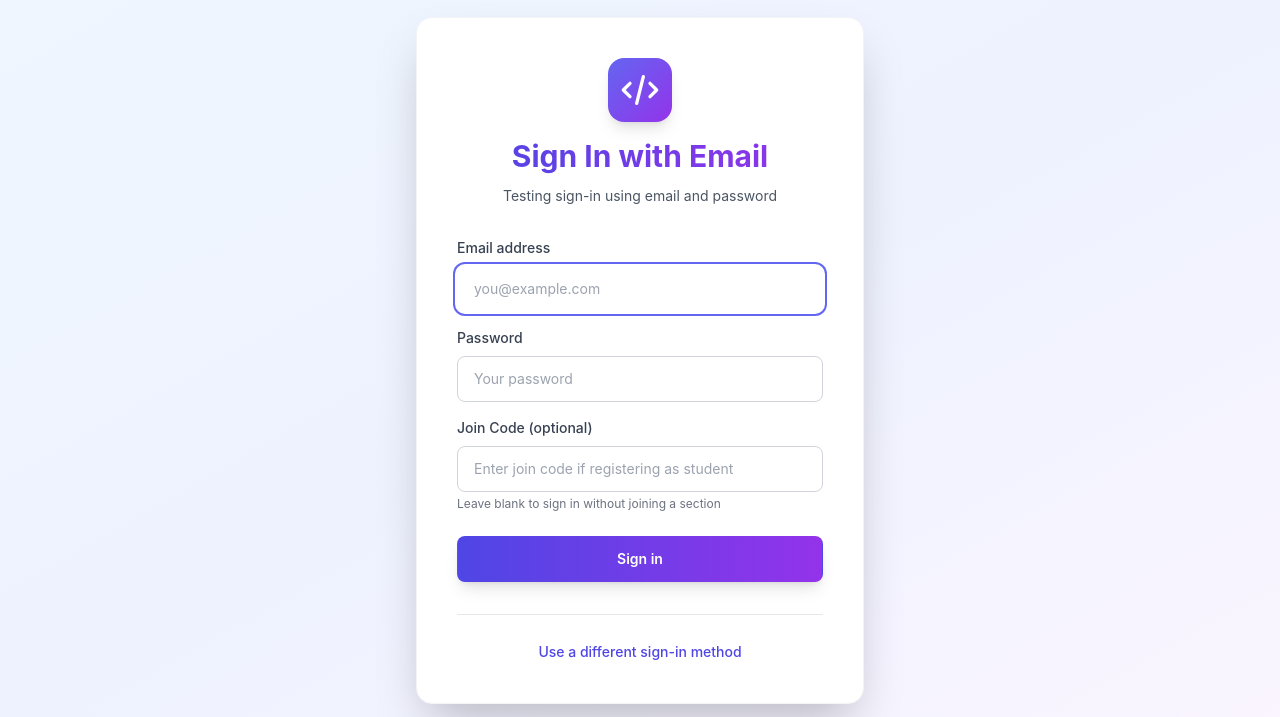
Test case: EmailSignInPage › Invite token flow › shows error message when invite token is expired
Type "test@example.com" into the field labelled "Email address".
click(640, 288); type("test@example.com")  # box [457, 266, 823, 312]
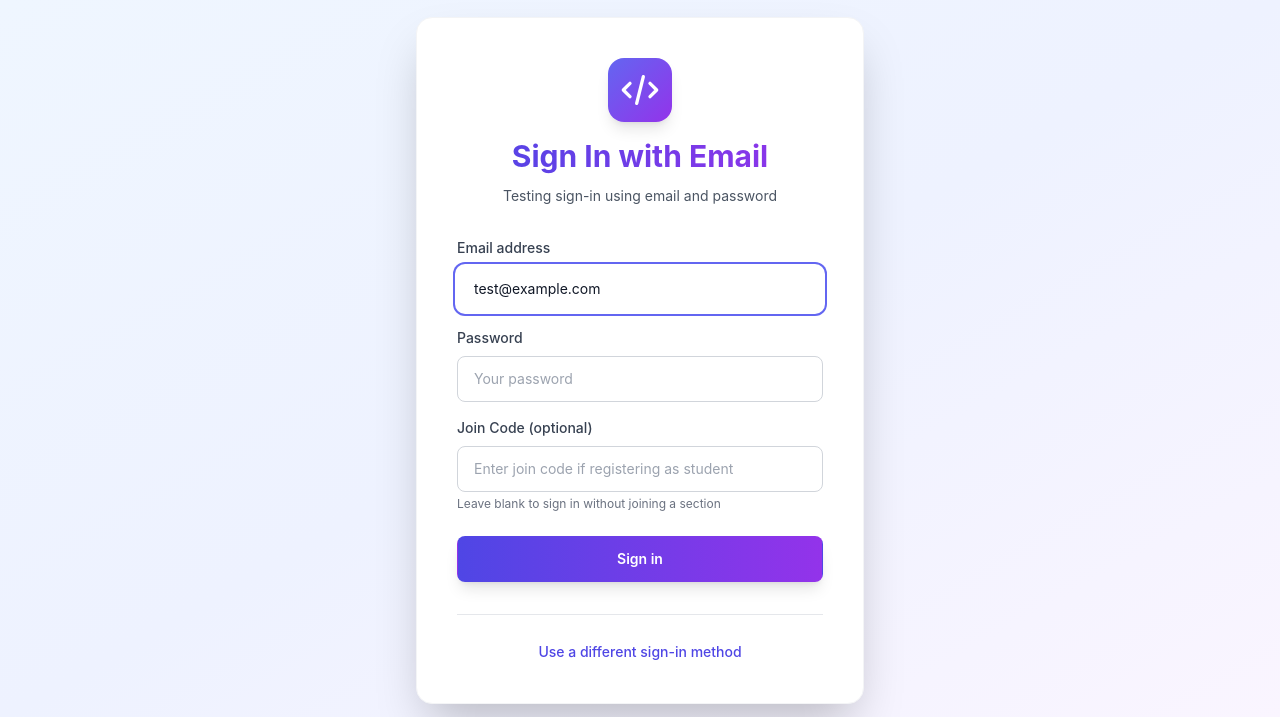
Type "password123" into the password field labelled "Password".
click(640, 378); type("password123")  # box [457, 356, 823, 402]
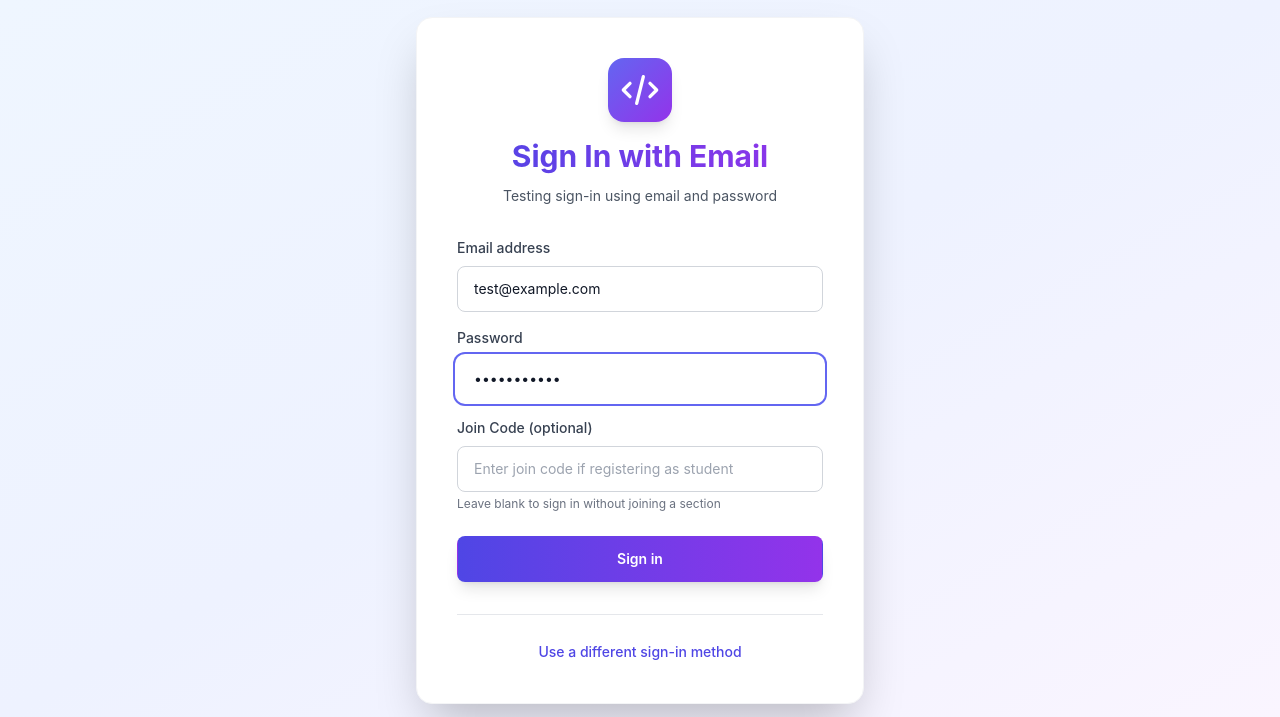
Click the button "Sign in".
click(640, 558)  # box [457, 536, 823, 582]
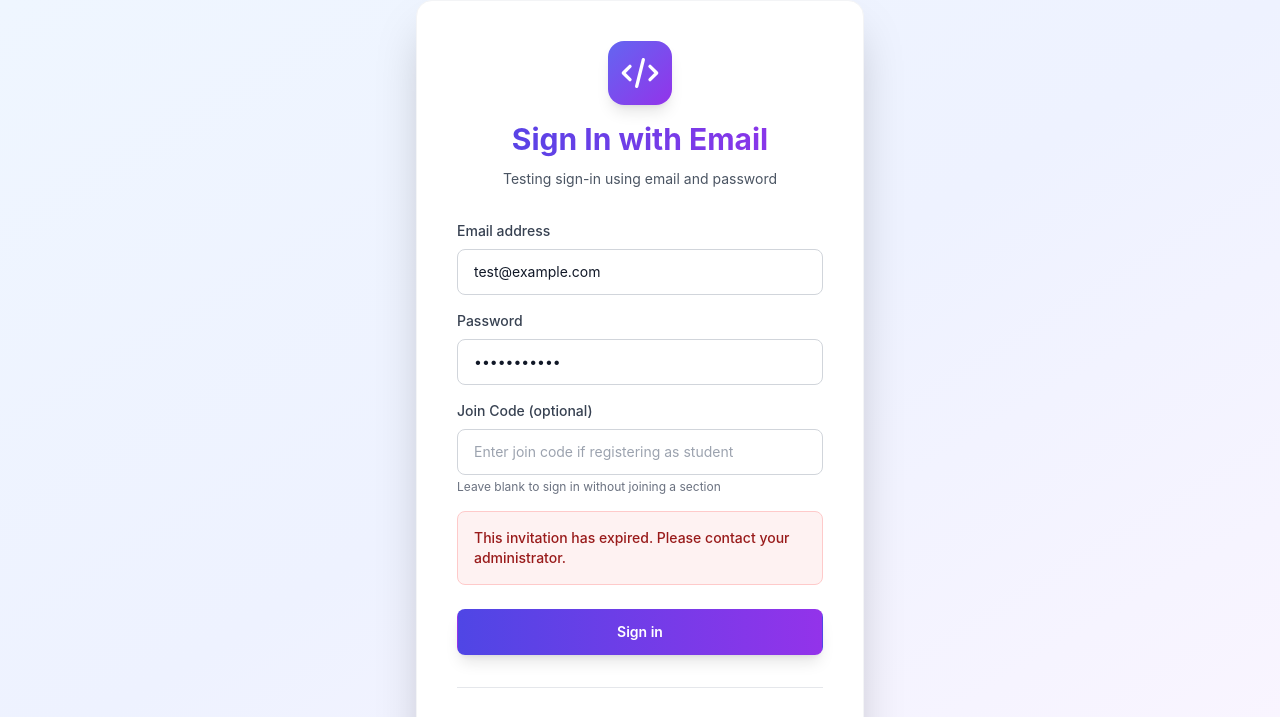
Check: the text "expired" is shown, box [474, 529, 790, 566]
